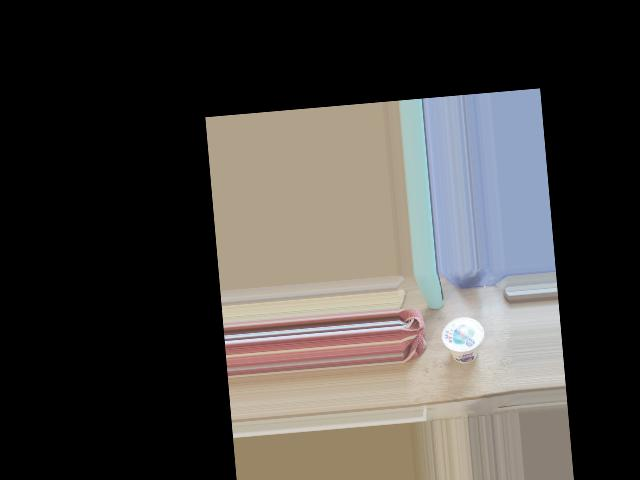cotage: (442, 313, 484, 366)
